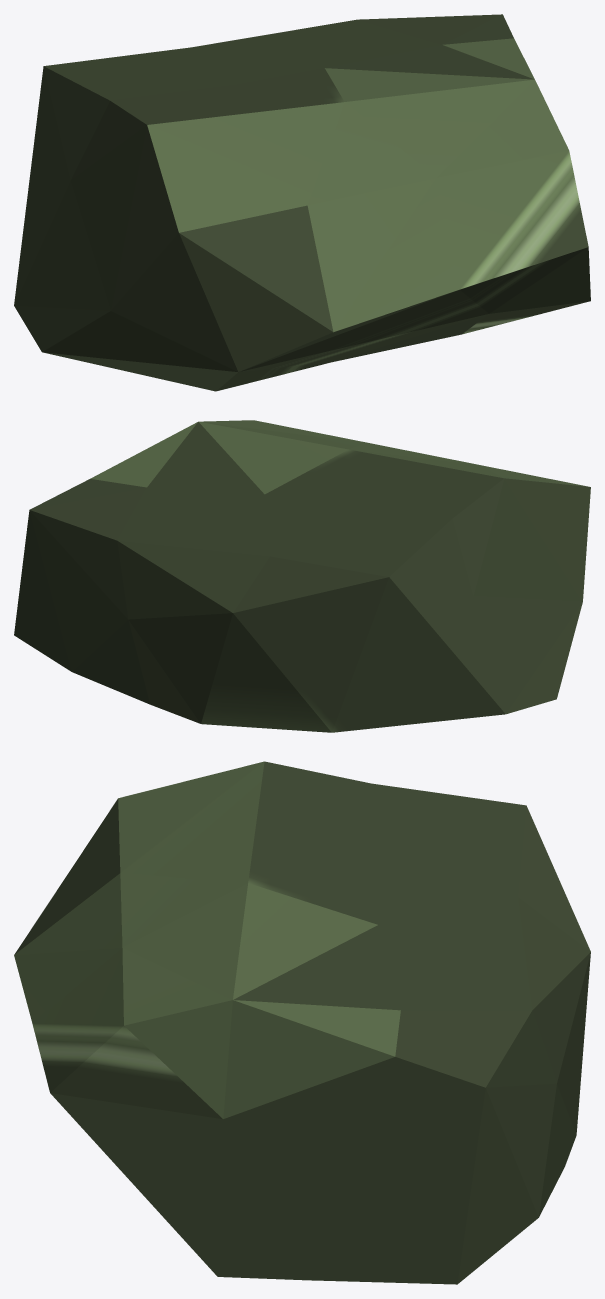
File: EA_Rock31_01a.glb
The picture shows the model from 3 angles, top to bottom: view 1: azimuth 30°, elevation 25°; view 2: azimuth 150°, elevation 25°; view 3: azimuth 270°, elevation 25°; orthographic projection. The views are drawn at different scales.
Visible parts, largest first — view 1: EA_Rock31_01a; view 2: EA_Rock31_01a; view 3: EA_Rock31_01a.
Boxes of the visible parts, <box> form: EA_Rock31_01a: <box>14,14,590,391</box>; EA_Rock31_01a: <box>14,420,590,732</box>; EA_Rock31_01a: <box>14,761,590,1284</box>.
Bounding box in the file's own units: 1.47 × 0.6465 × 1.17.
Materials: 1 (1 with a texture image).
